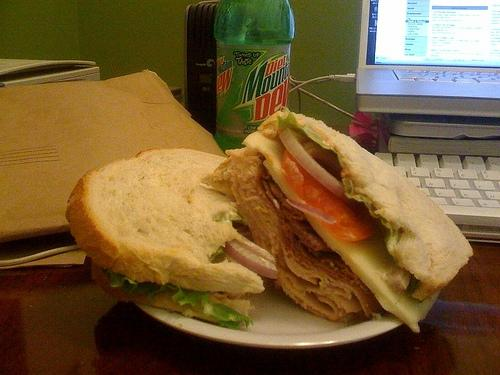lettuce: (275, 112, 344, 166), (172, 286, 254, 328), (381, 218, 401, 257), (216, 214, 248, 225)
onion: (279, 127, 348, 200), (222, 240, 278, 279), (232, 227, 276, 266), (285, 198, 337, 224), (306, 147, 342, 175), (382, 269, 412, 295)
tomato: (281, 148, 387, 242)
